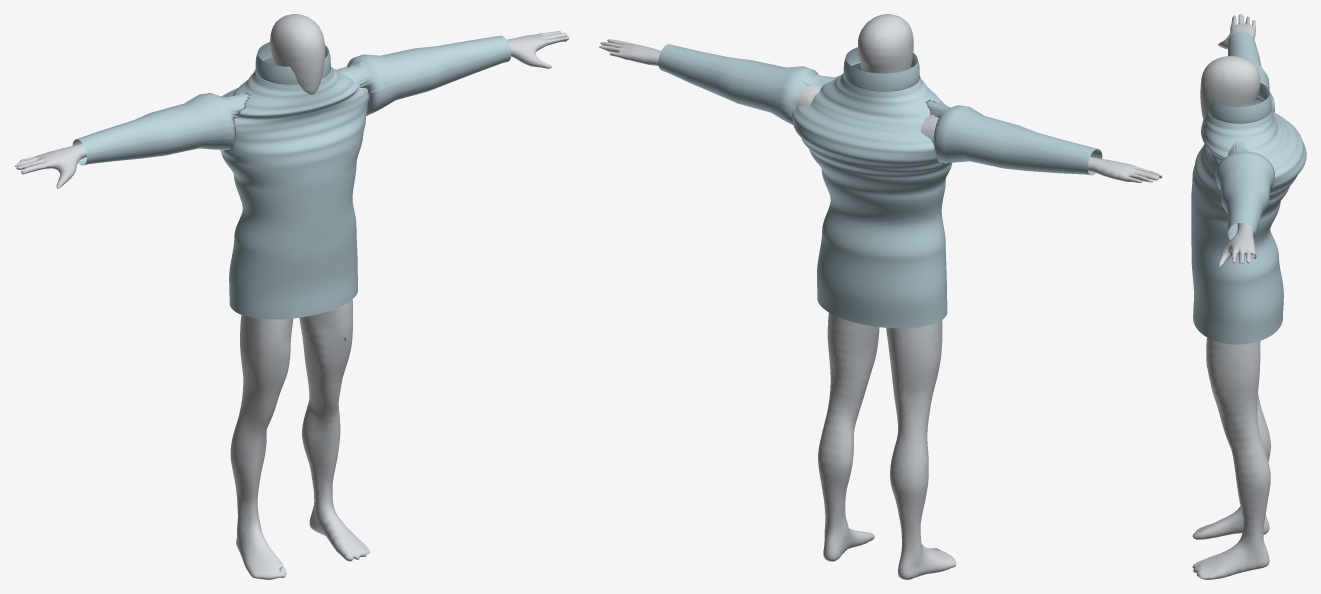
Rendered from display.glb.
The picture shows the model from 3 angles, left to right: view 1: azimuth 30°, elevation 25°; view 2: azimuth 150°, elevation 25°; view 3: azimuth 270°, elevation 25°; orthographic projection. The views are drawn at different scales.
Visible parts, largest first — view 1: ATEL-23 shirt v3.1 corrective, AtelierX_mannequin_180cm; view 2: ATEL-23 shirt v3.1 corrective, AtelierX_mannequin_180cm; view 3: ATEL-23 shirt v3.1 corrective, AtelierX_mannequin_180cm.
Boxes of the visible parts, <box> form: ATEL-23 shirt v3.1 corrective: <box>72,35,511,319</box>; AtelierX_mannequin_180cm: <box>14,14,569,579</box>; ATEL-23 shirt v3.1 corrective: <box>658,44,1102,328</box>; AtelierX_mannequin_180cm: <box>599,14,1161,579</box>; ATEL-23 shirt v3.1 corrective: <box>1191,32,1306,344</box>; AtelierX_mannequin_180cm: <box>1192,14,1270,579</box>.
Bounding box in the file's own units: 1.93 × 1.8 × 0.379.
